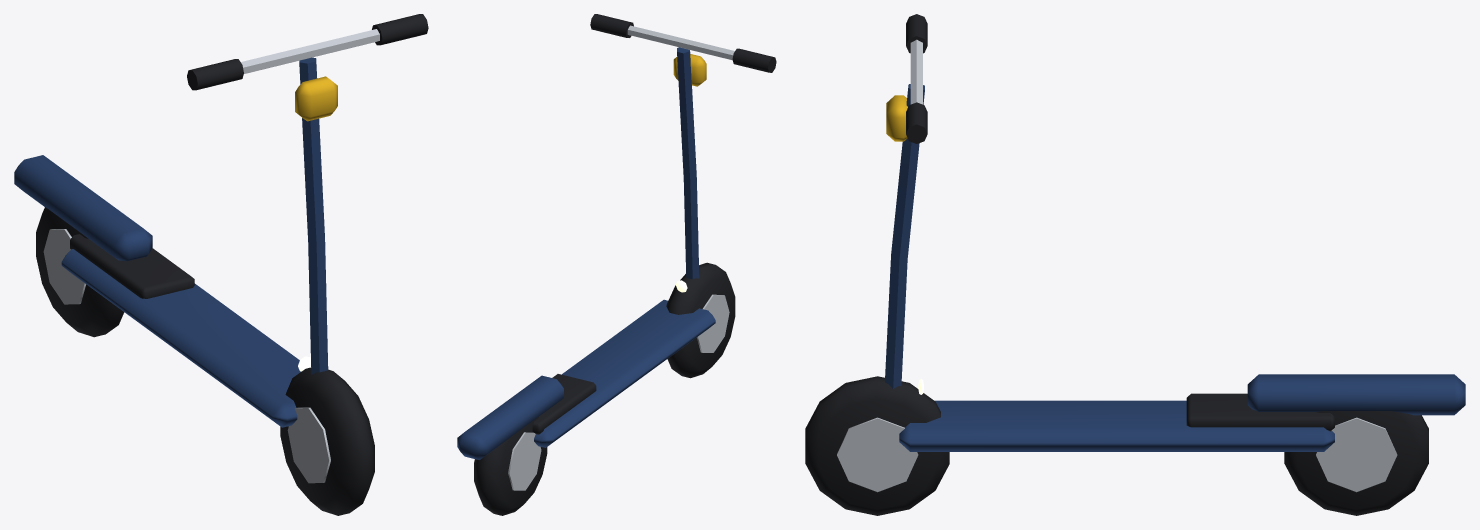
The model's file is kick_scooter.glb.
3 views of the same model, side by side, from view 1: azimuth 30°, elevation 25°; view 2: azimuth 150°, elevation 25°; view 3: azimuth 270°, elevation 25° (orthographic). The views are drawn at different scales.
Visible parts, largest first — view 1: kick_scooter; view 2: kick_scooter; view 3: kick_scooter.
Boxes of the visible parts, left/top/right/bottom form: kick_scooter: left=14, top=14, right=428, bottom=515; kick_scooter: left=457, top=14, right=776, bottom=515; kick_scooter: left=805, top=14, right=1465, bottom=515.
Bounding box in the file's own units: 0.6 × 1.12 × 1.52.
